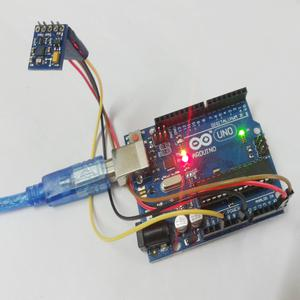duino: (123, 65, 294, 260)
